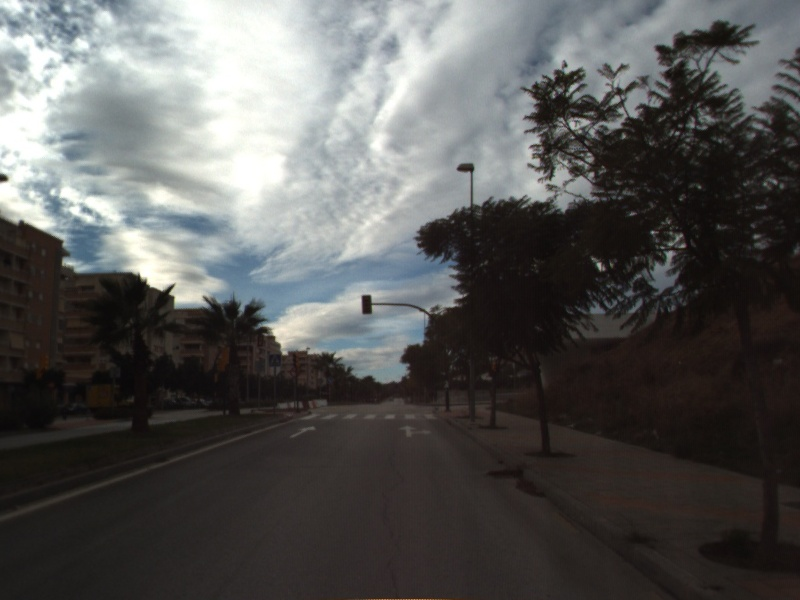STRAIGHT: (288, 423, 319, 440)
STRAIGHT_RIGHT: (396, 422, 434, 439)
